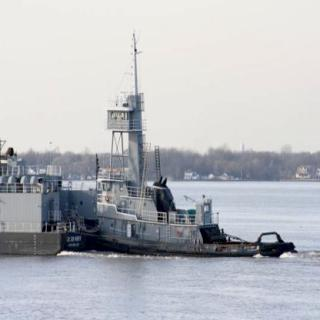Tug Boat: (65, 15, 246, 257)
